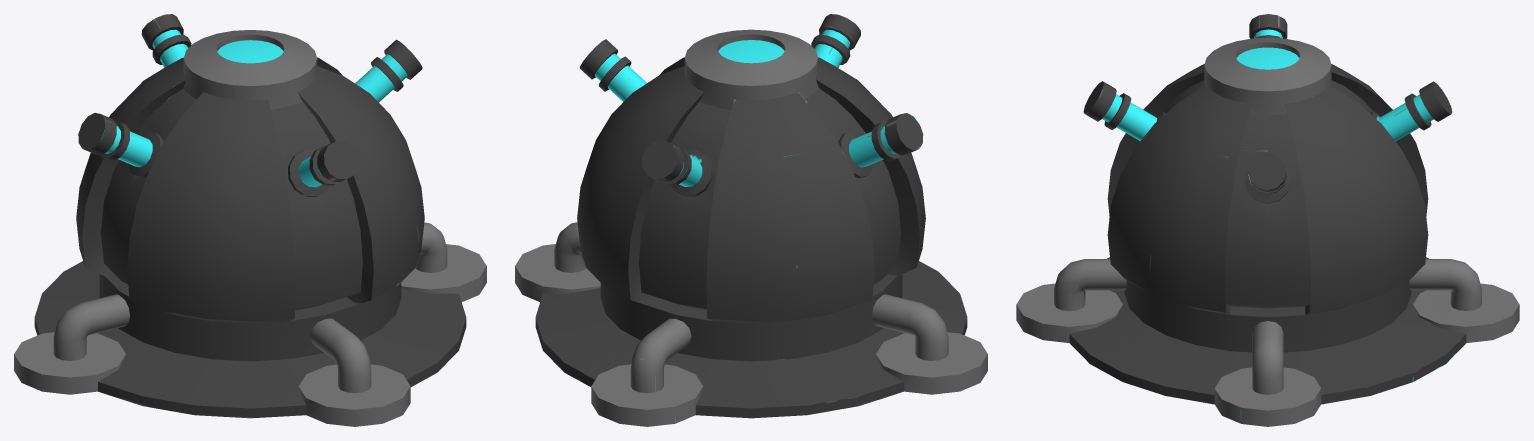
Rendered from Generator.dae.
3 views of the same model, side by side, from view 1: azimuth 30°, elevation 25°; view 2: azimuth 150°, elevation 25°; view 3: azimuth 270°, elevation 25° (orthographic). The views are drawn at different scales.
Parts seen in each view (by area): view 1: Circle; view 2: Circle; view 3: Circle.
Boxes of the visible parts, x1,y1,x2,y2 form: Circle: (14, 14, 486, 426); Circle: (515, 14, 987, 426); Circle: (1016, 14, 1519, 426).
Bounding box in the file's own units: 73.44 × 73.44 × 42.64.
Materials: 2 (2 with a texture image).
